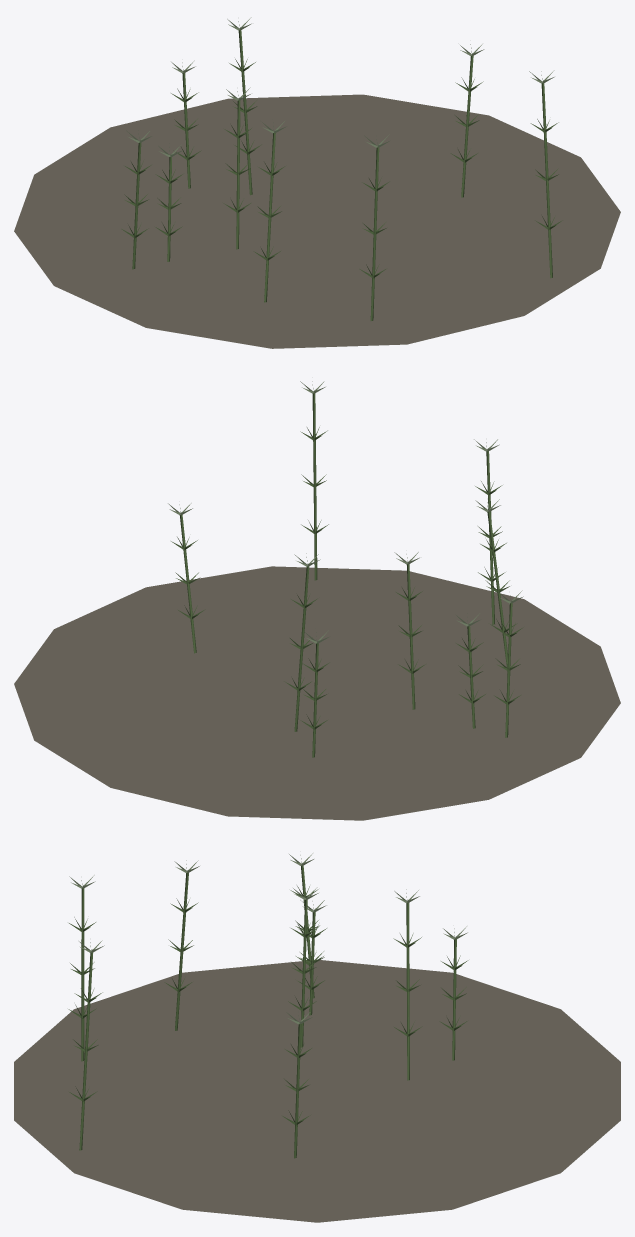
The model's file is lake-chara-shallows-1.glb.
The picture shows the model from 3 angles, top to bottom: view 1: azimuth 30°, elevation 25°; view 2: azimuth 150°, elevation 25°; view 3: azimuth 270°, elevation 25°; orthographic projection. The views are drawn at different scales.
Visible parts, largest first — view 1: lake-chara-shallows-1; view 2: lake-chara-shallows-1; view 3: lake-chara-shallows-1.
Boxes of the visible parts, x1=… form: lake-chara-shallows-1: x1=14, y1=17, x2=620, y2=348; lake-chara-shallows-1: x1=14, y1=381, x2=620, y2=820; lake-chara-shallows-1: x1=14, y1=853, x2=620, y2=1222.
Bounding box in the file's own units: 1 × 0.3648 × 0.9749.
